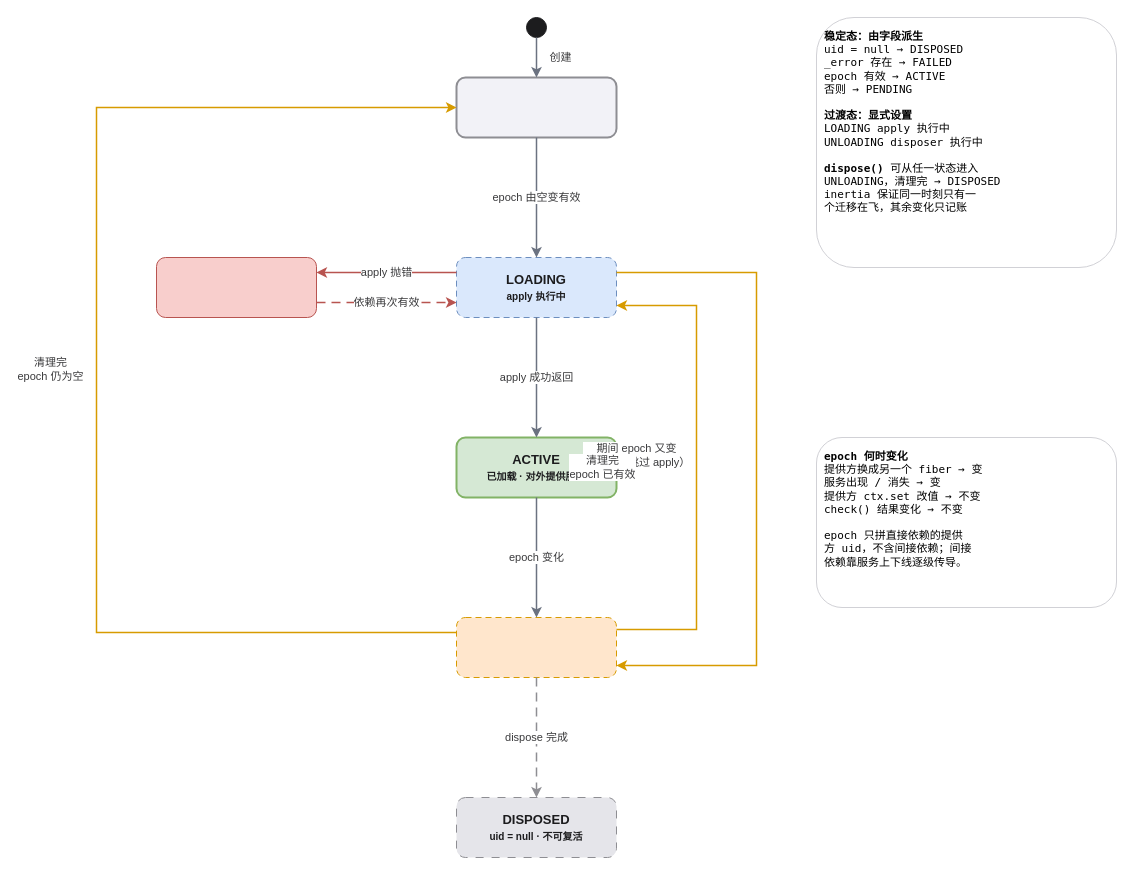
Image size: 1134x875. Some labels were removed from this diagram. The centre of each missing label's shape, as x and y in pixels:
FAILED apply / 校验抛错: the point at 236,287
PENDING 等待依赖 · 不跑 apply: the point at 536,107
UNLOADING disposer 执行中: the point at 536,647
